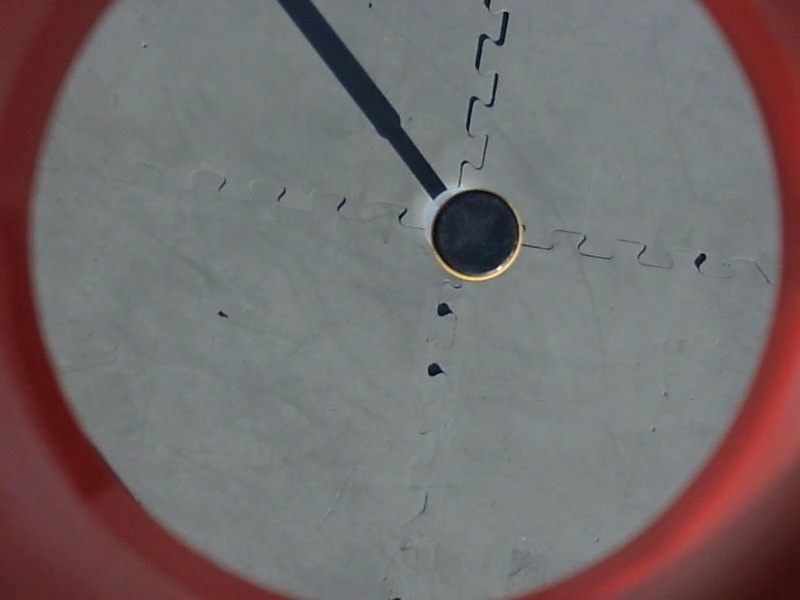tip: (427, 182, 527, 283)
